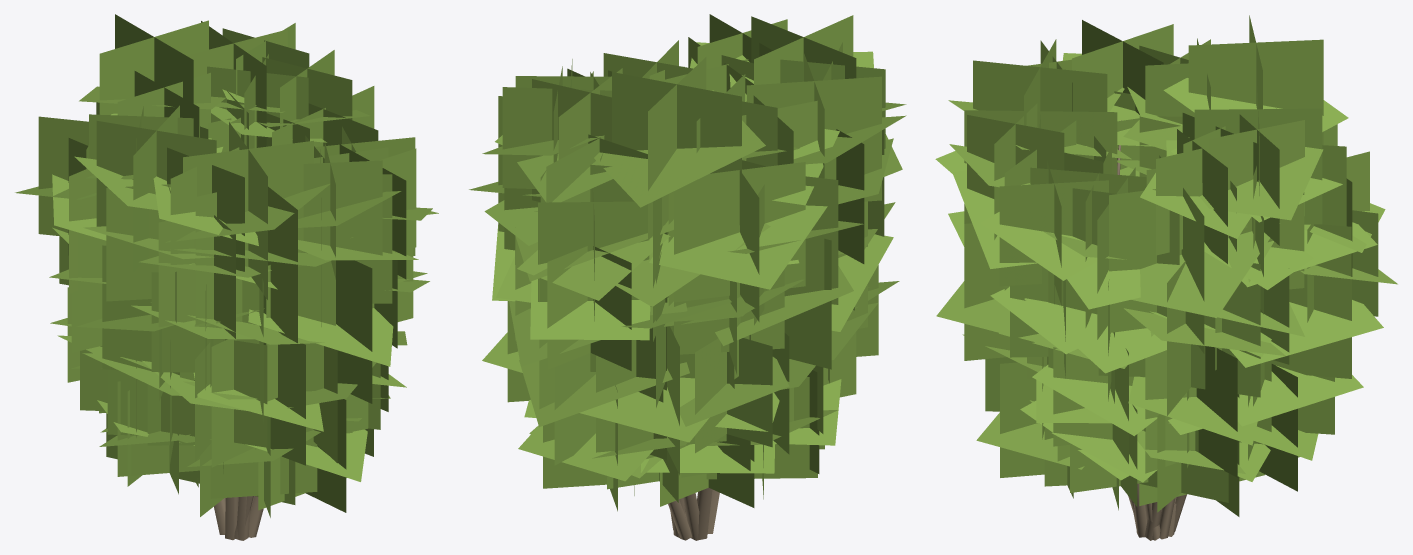
The model's file is noisetier_5_loin.glb.
3 renders of one model, left to right at view 1: azimuth 30°, elevation 25°; view 2: azimuth 150°, elevation 25°; view 3: azimuth 270°, elevation 25°, orthographic. The views are drawn at different scales.
Parts seen in each view (by area): view 1: Noisetier_T5_Leger_Loin; view 2: Noisetier_T5_Leger_Loin; view 3: Noisetier_T5_Leger_Loin.
Boxes of the visible parts, x1,y1,x2,y2 form: Noisetier_T5_Leger_Loin: (15, 14, 438, 540); Noisetier_T5_Leger_Loin: (469, 14, 906, 540); Noisetier_T5_Leger_Loin: (935, 15, 1397, 540).
Size of the model in its own units: 6.4 by 8.06 by 7.15.
